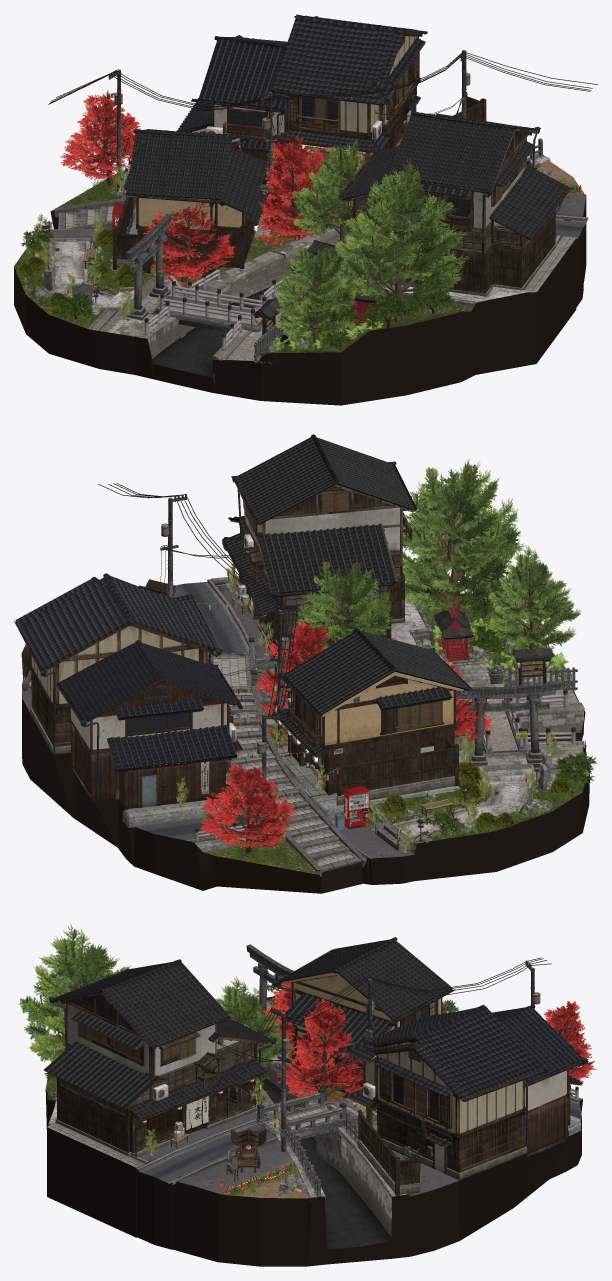
Rendered from tanabata_evening.glb.
3 views of the same model, one above another, from view 1: azimuth 30°, elevation 25°; view 2: azimuth 150°, elevation 25°; view 3: azimuth 270°, elevation 25° (orthographic). The views are drawn at different scales.
Parts seen in each view (by area): view 1: SM_blackBox, sm_houseBrewery, SM_cakeShop, SM_yakitoriRestaurant, tree, SM_house, tree003, SM_Maple01, SM_Maple02, SM_tree, SM_Maple00, SM_bridge2 (+28 smaller); view 2: sm_houseBrewery, SM_house, SM_blackBox, SM_yakitoriRestaurant, SM_cakeShop, tree, SM_Stairs, tree003, SM_Maple01, SM_tree, SM_asphaltRoad (×2), Box015 (+32 smaller); view 3: sm_houseBrewery, SM_blackBox, SM_cakeShop, SM_yakitoriRestaurant, SM_house, tree, SM_Maple02, sm_water, sm_canalWall00, SM_asphaltRoad, SM_bridge, SM_tree (+17 smaller).
Boxes of the visible parts, x1,y1,x2,y2 form: SM_blackBox: (14, 159, 586, 405); sm_houseBrewery: (338, 111, 571, 296); SM_cakeShop: (269, 14, 427, 175); SM_yakitoriRestaurant: (123, 129, 268, 277); tree: (335, 158, 470, 322); SM_house: (176, 35, 287, 184); tree003: (274, 245, 356, 343); SM_Maple01: (60, 90, 140, 185); SM_Maple02: (257, 136, 338, 241); SM_tree: (291, 136, 363, 241); SM_Maple00: (143, 199, 234, 282); SM_bridge2: (152, 281, 266, 332); sm_houseBrewery: (222, 434, 416, 657); SM_house: (55, 640, 242, 809); SM_blackBox: (22, 582, 589, 893); SM_yakitoriRestaurant: (273, 627, 472, 795); SM_cakeShop: (14, 573, 222, 757); tree: (402, 459, 525, 614); SM_Stairs: (229, 686, 366, 876); tree003: (487, 545, 581, 648); SM_Maple01: (199, 763, 295, 854); SM_tree: (295, 560, 392, 656); SM_asphaltRoad (×2): (135, 579, 269, 842); Box015: (337, 738, 458, 796); sm_houseBrewery: (44, 959, 276, 1157); SM_blackBox: (45, 996, 582, 1266); SM_cakeShop: (338, 1004, 550, 1180); SM_yakitoriRestaurant: (272, 937, 455, 1093); SM_house: (492, 1004, 588, 1157); tree: (18, 924, 131, 1061); SM_Maple02: (276, 999, 362, 1102); sm_water: (260, 1076, 397, 1249); sm_canalWall00: (258, 1053, 404, 1243); SM_asphaltRoad: (136, 1119, 277, 1184); SM_bridge: (256, 1088, 350, 1139); SM_tree: (214, 976, 293, 1083).
Size of the model in its own units: 15.6 by 6.54 by 15.87.
63 materials, 59 textured.
